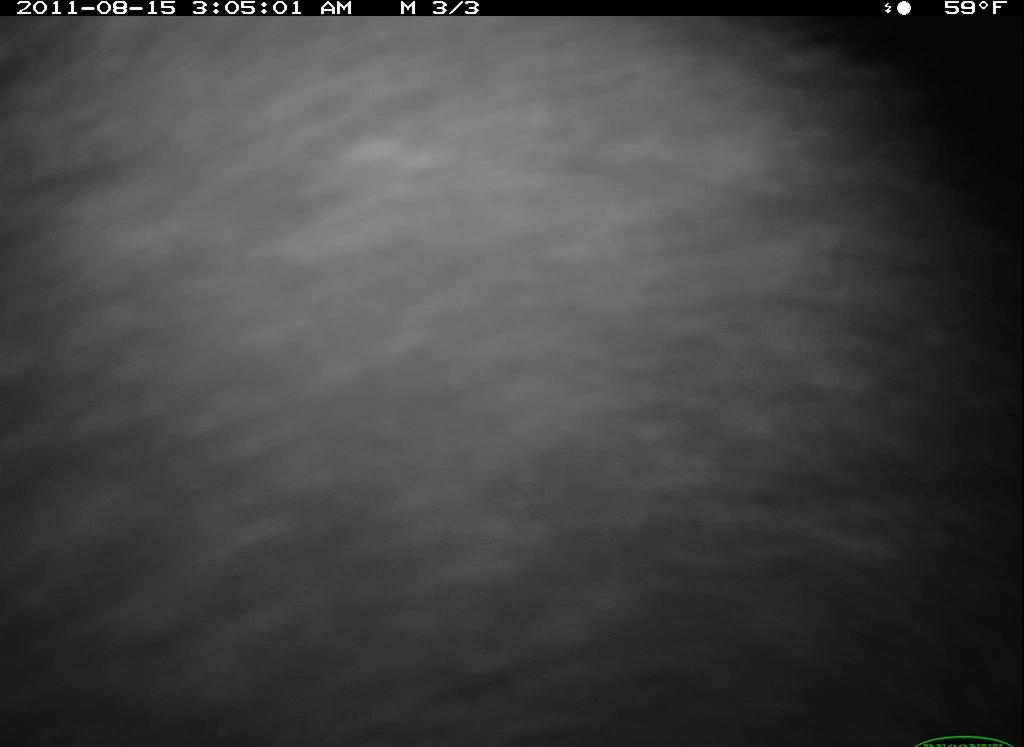raccoon: (9, 18, 1012, 743)
